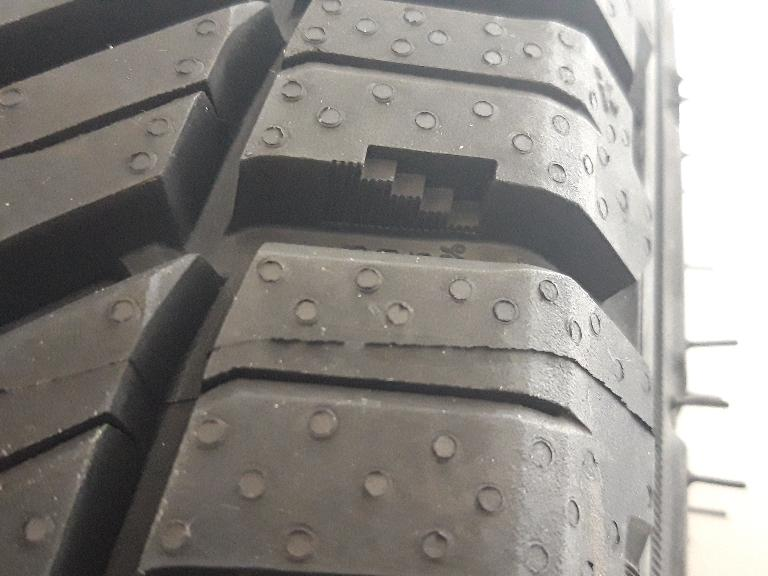temoin:100: (319, 138, 505, 247)
